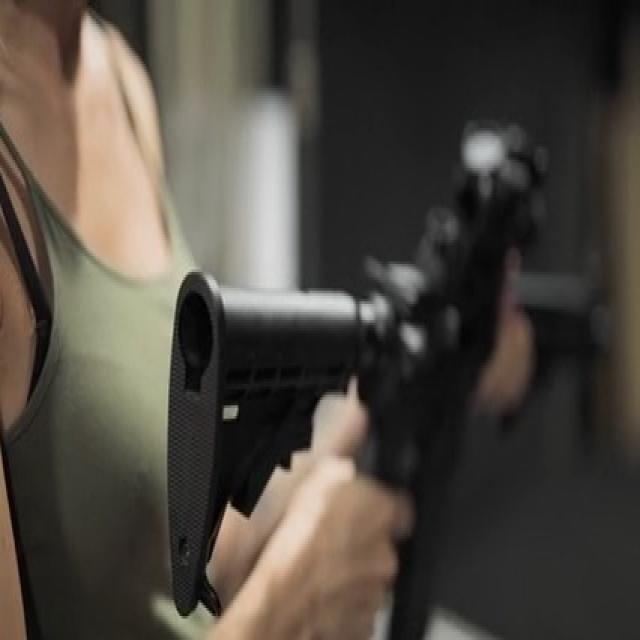Gun_Holder: (150, 75, 640, 639)
